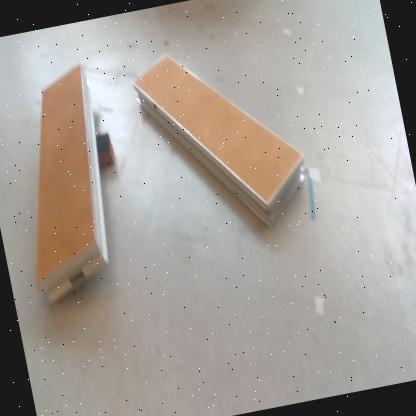Stairs: (133, 53, 307, 228), (39, 63, 109, 309)
